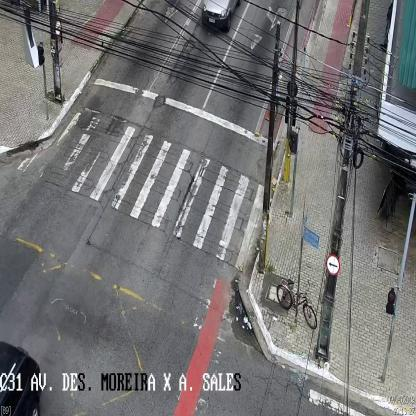bicycle: (276, 276, 317, 329)
car: (200, 2, 241, 31)
